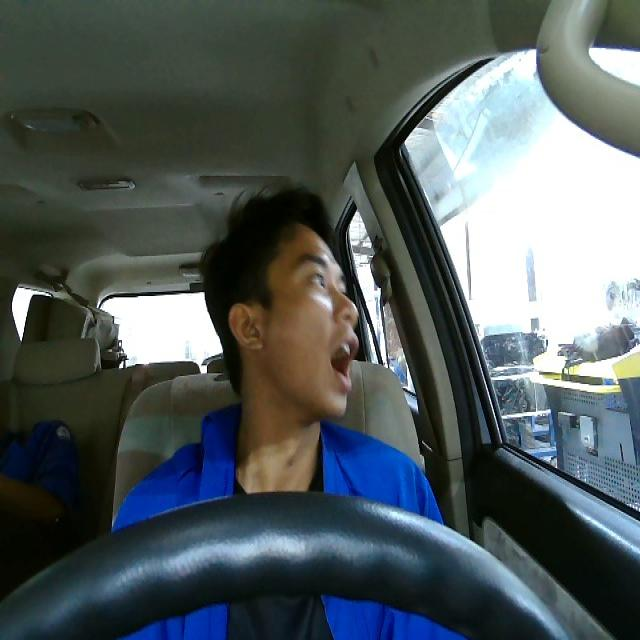yarning: (223, 220, 359, 424)
